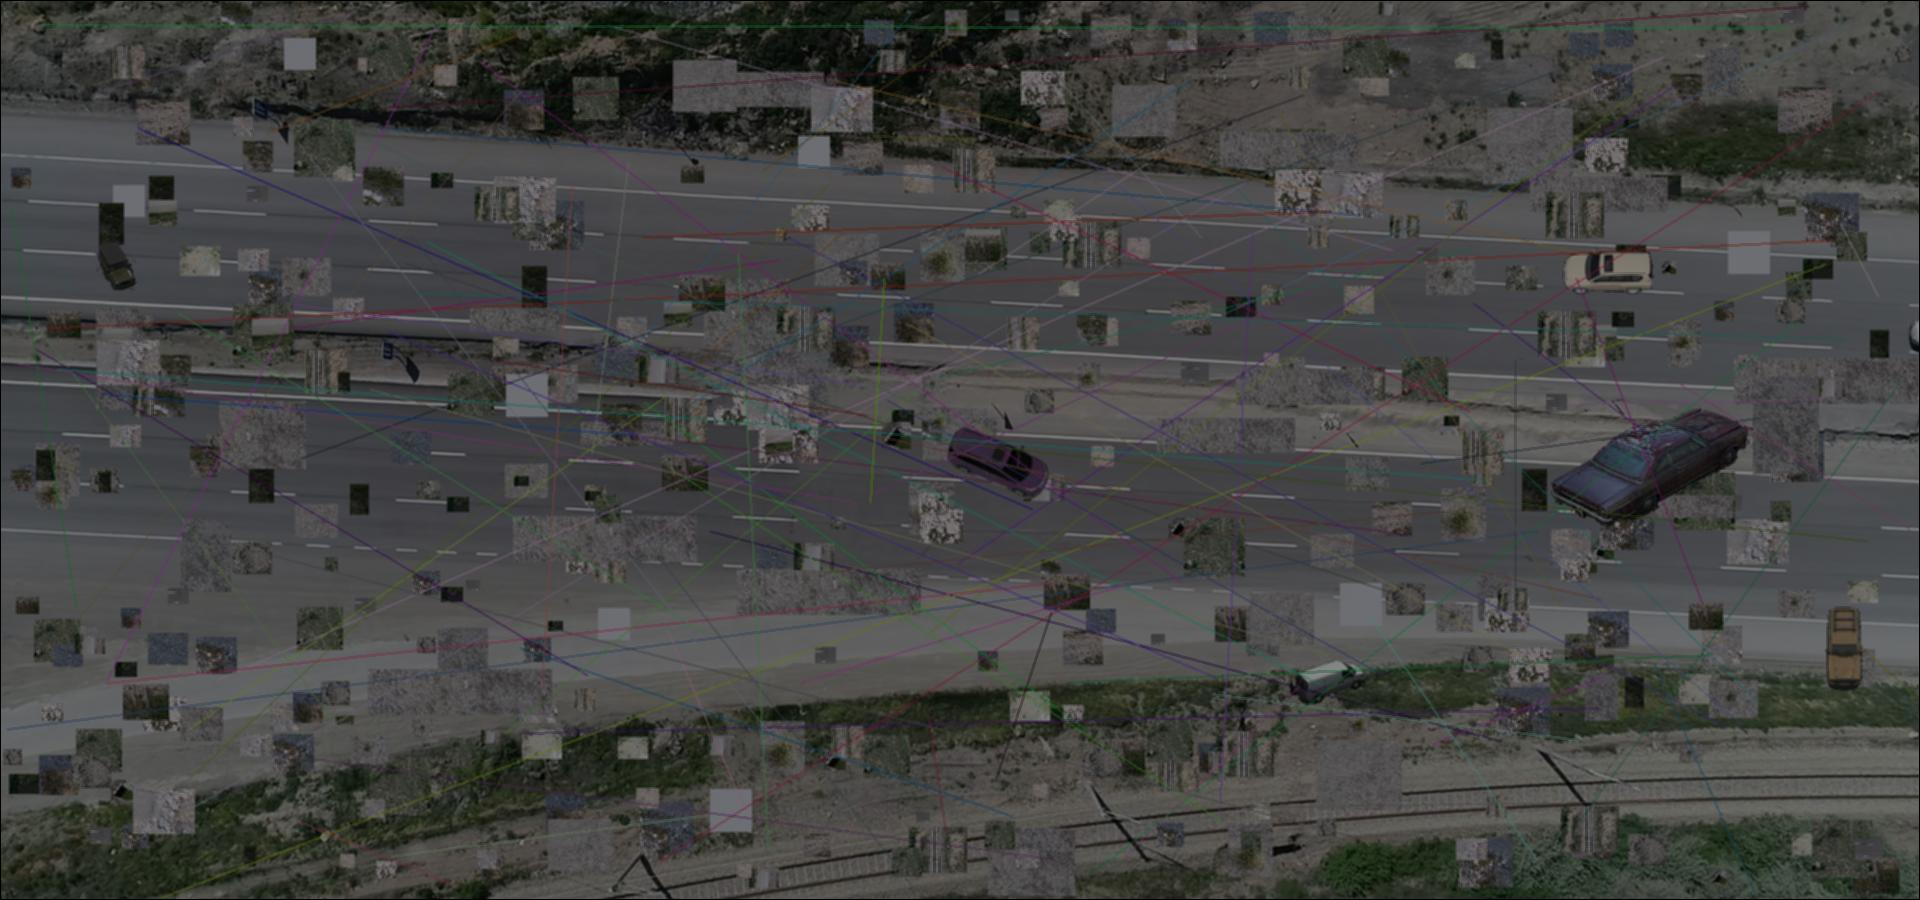arac: (1548, 407, 1753, 531), (945, 424, 1051, 501), (1558, 249, 1658, 294), (1824, 605, 1866, 691), (1294, 659, 1364, 704), (97, 242, 137, 290)
